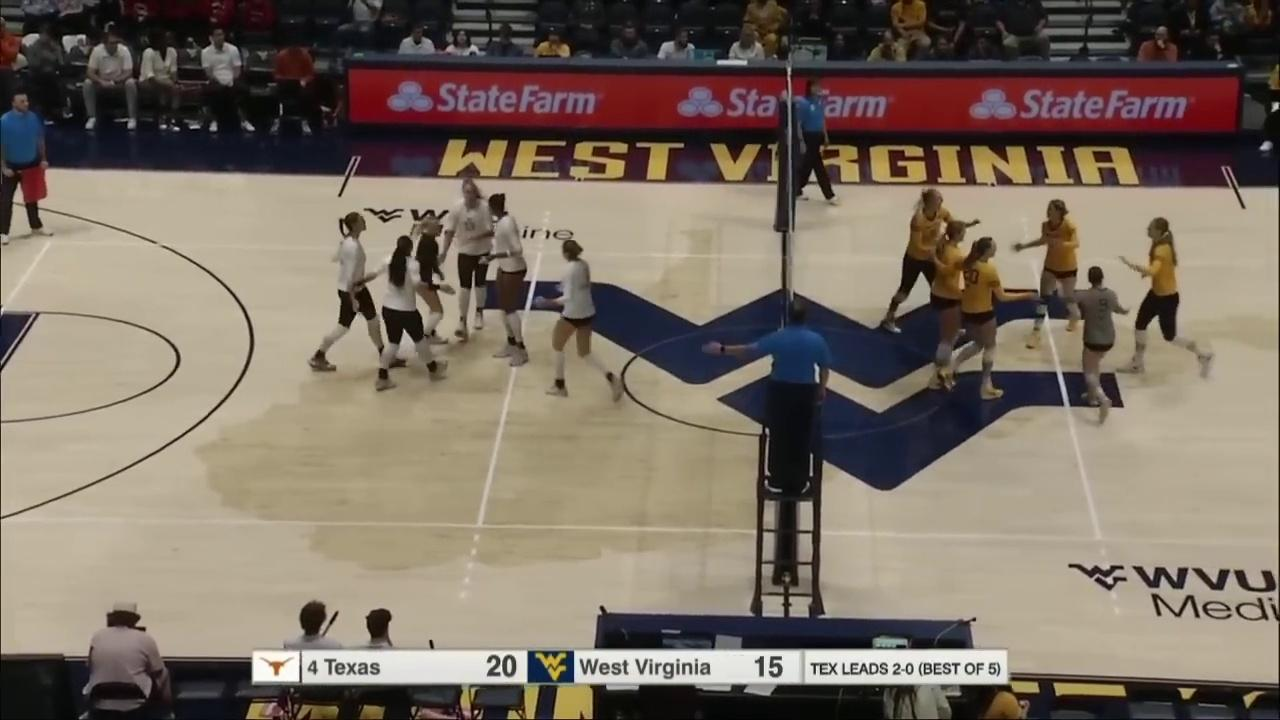player: (1124, 220, 1221, 382), (537, 239, 625, 402), (308, 215, 394, 371), (1050, 264, 1134, 415), (945, 237, 1015, 403), (888, 186, 963, 338), (374, 238, 446, 392), (1019, 201, 1085, 345), (446, 177, 499, 340), (489, 193, 537, 367), (928, 223, 974, 389), (403, 216, 453, 350)
refree: (720, 297, 828, 496), (0, 89, 56, 246), (785, 77, 839, 205)
